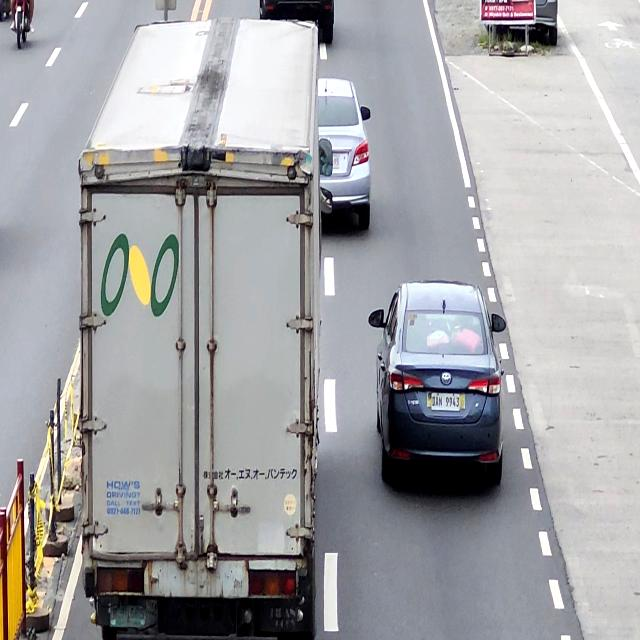Car: (369, 279, 508, 488), (315, 73, 377, 233)
License-Plate: (108, 605, 150, 627), (430, 394, 461, 412)
Truck: (76, 19, 331, 640)
